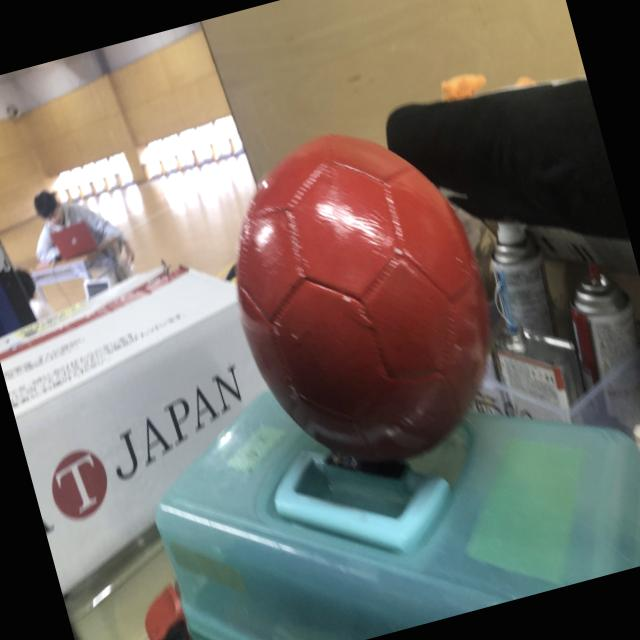red_ball: (201, 112, 524, 496)
